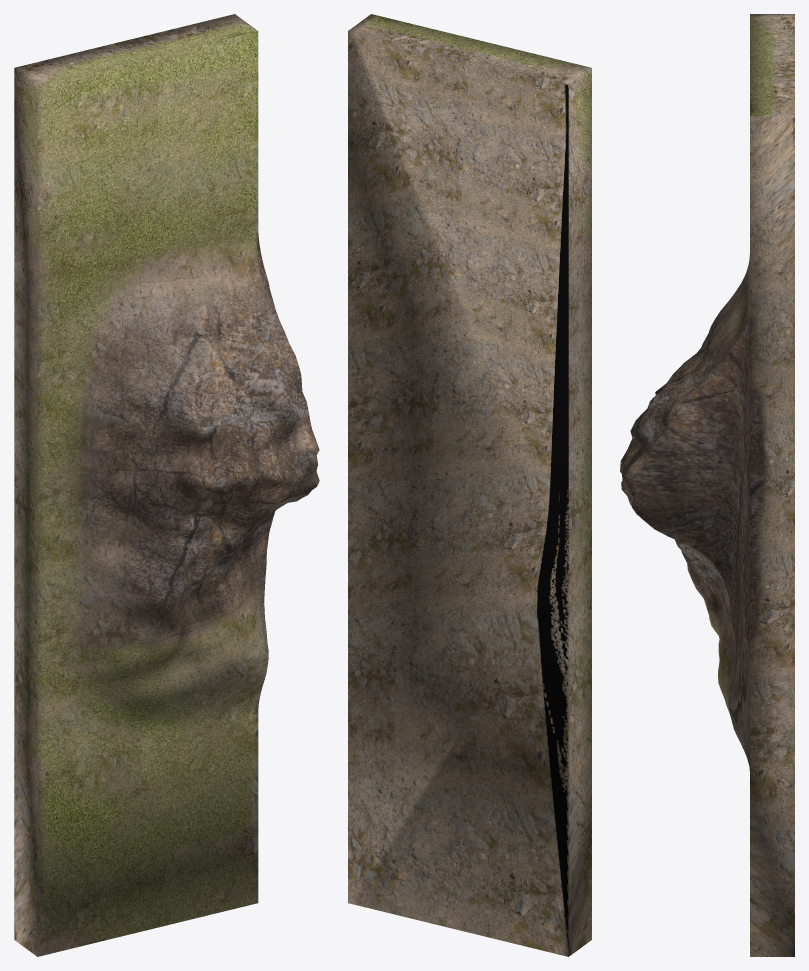
The model's file is Welt_xna.fbx.
3 views of the same model, side by side, from view 1: azimuth 30°, elevation 25°; view 2: azimuth 150°, elevation 25°; view 3: azimuth 270°, elevation 25° (orthographic). The views are drawn at different scales.
Parts seen in each view (by area): view 1: Landscape; view 2: Landscape; view 3: Landscape.
Boxes of the visible parts, x1,y1,x2,y2 form: Landscape: [14, 14, 319, 956]; Landscape: [348, 14, 591, 956]; Landscape: [620, 14, 794, 956].
Bounding box in the file's own units: 7.64 × 28.86 × 5.45.
1 material, 1 textured.
